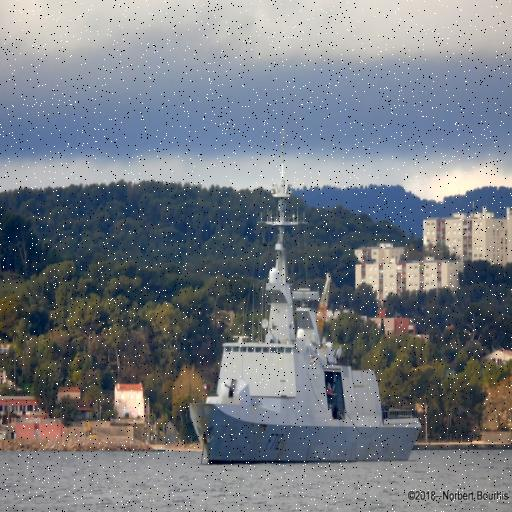Fragata: (186, 117, 426, 472)
